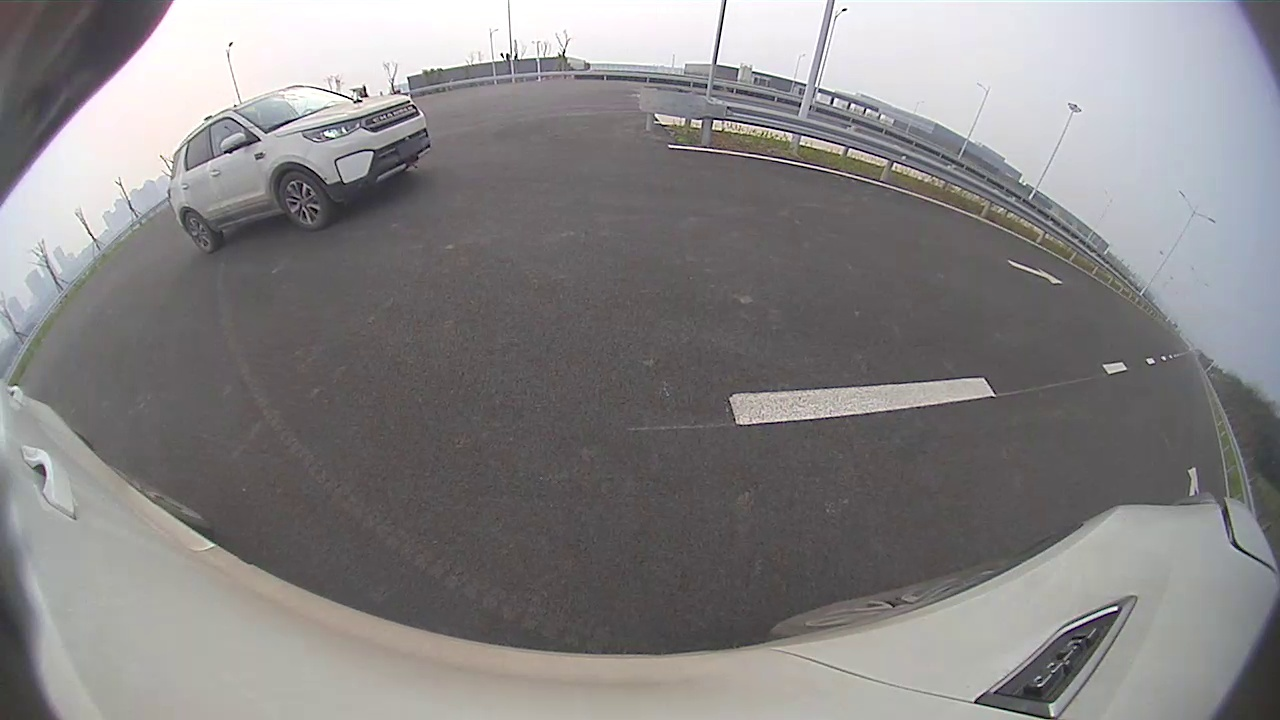car: (170, 85, 431, 253)
front: (277, 172, 329, 234)
rear: (181, 216, 217, 252)
